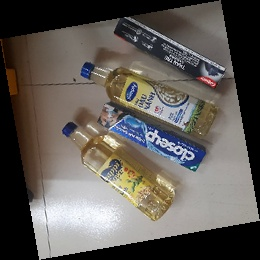CloseUp Tuyet: (94, 103, 208, 173)
Colgate Than: (113, 15, 228, 89)
Happy Soya: (60, 122, 178, 222)
Simply: (79, 61, 219, 140)
